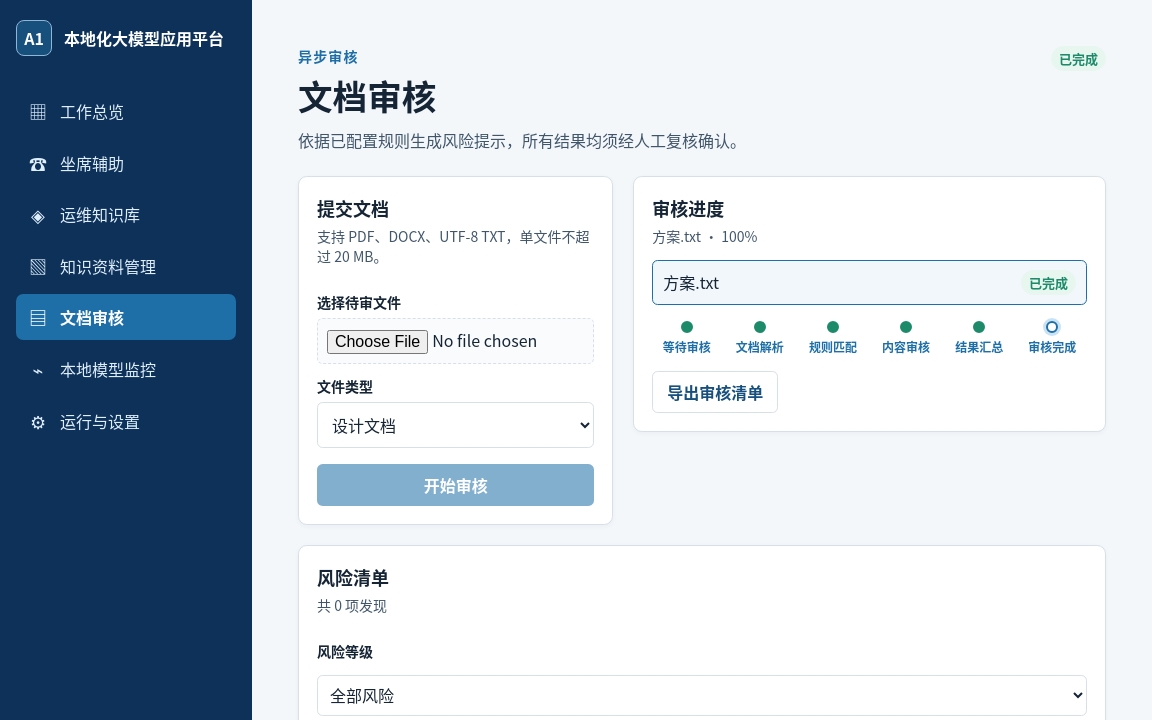
Scenario: returns to login with the protected path when CSV export receives 401
Click the button "导出审核清单" at coordinates (715, 392), box [652,371,778,413]
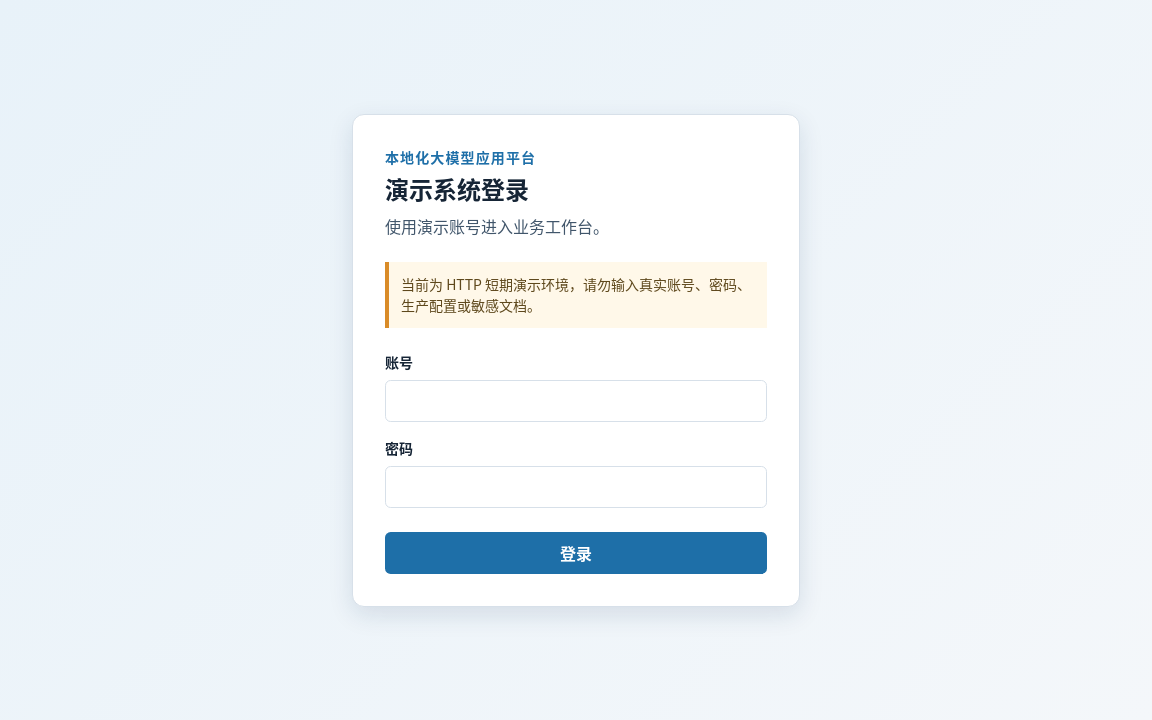
Result: the heading "演示系统登录" is shown at [385,170,529,206]
